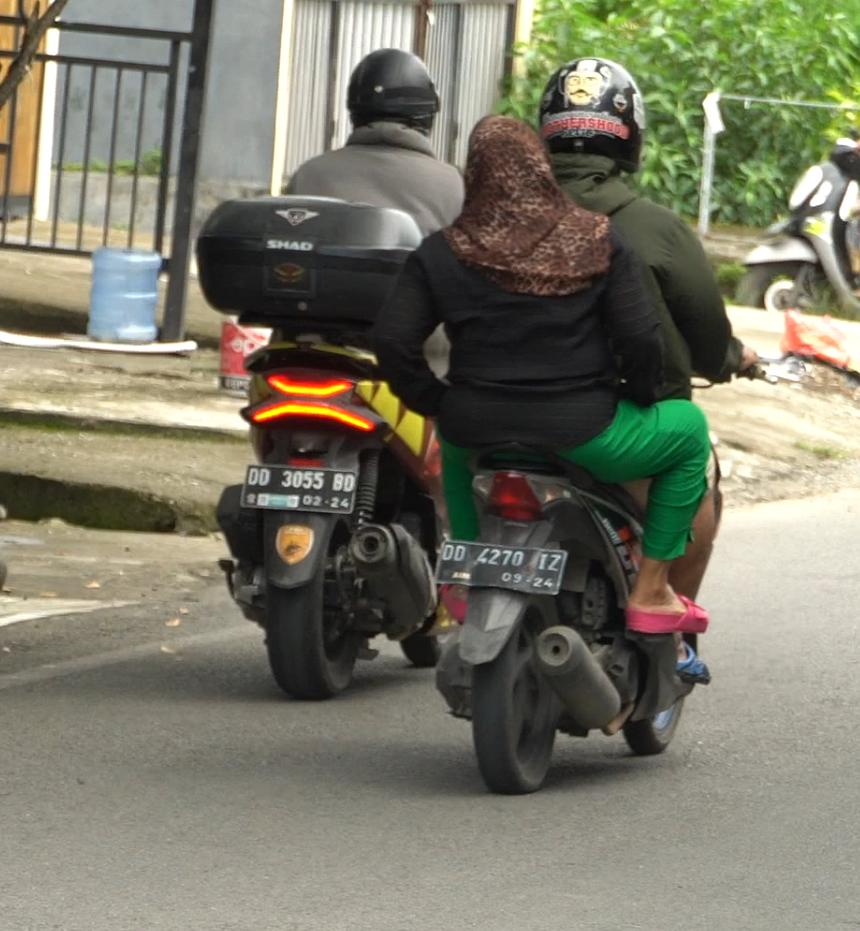number-plate: (427, 535, 574, 597), (237, 464, 365, 517)
